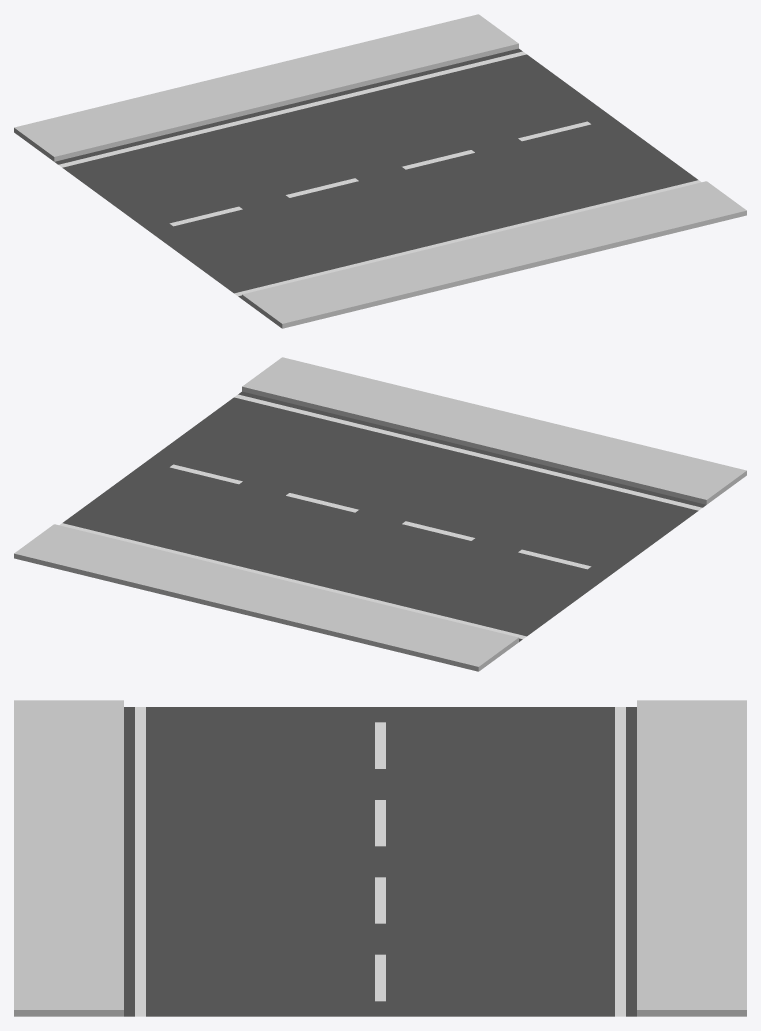
Rendered from road_straight.glb.
3 views of the same model, one above another, from view 1: azimuth 30°, elevation 25°; view 2: azimuth 150°, elevation 25°; view 3: azimuth 270°, elevation 25° (orthographic). The views are drawn at different scales.
Visible parts, largest first — view 1: SPW_Urban_Road 2way_02; view 2: SPW_Urban_Road 2way_02; view 3: SPW_Urban_Road 2way_02.
Boxes of the visible parts, <box> form: SPW_Urban_Road 2way_02: <box>14,14,746,328</box>; SPW_Urban_Road 2way_02: <box>14,357,746,671</box>; SPW_Urban_Road 2way_02: <box>14,700,746,1016</box>.
Size of the model in its own units: 20 by 0.2 by 20.
1 material, 1 textured.
